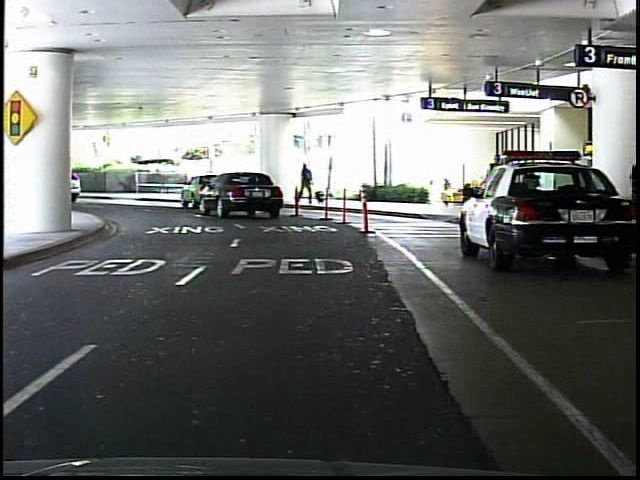person: (296, 161, 322, 208)
